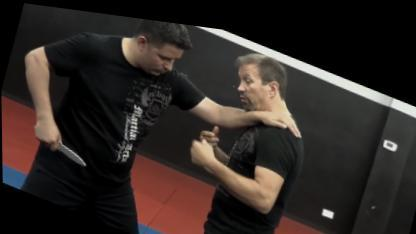knife: (26, 118, 92, 166)
